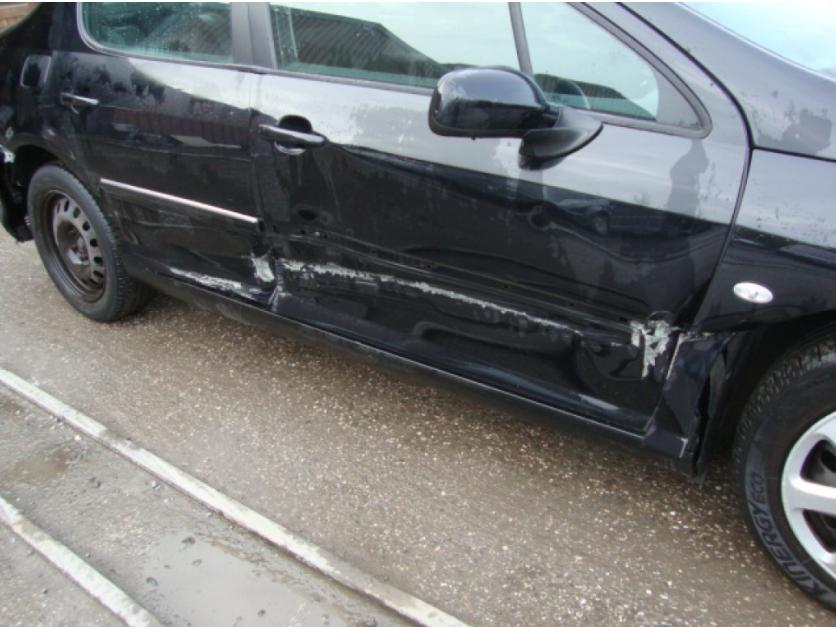Back-bumper: (0, 146, 22, 243)
Back-door: (50, 0, 278, 309)
Back-wheel: (27, 163, 150, 321), (82, 1, 233, 61)
Fender: (645, 147, 835, 453)
Front-door: (248, 0, 752, 432)
Front-wheel: (730, 328, 836, 610)
Front-window: (519, 1, 700, 126), (270, 2, 523, 87)
Mirror: (430, 68, 558, 138)
Quarter-panel: (1, 23, 83, 177)
Rocker-panel: (120, 247, 702, 481)
Windshield: (680, 2, 835, 80)
